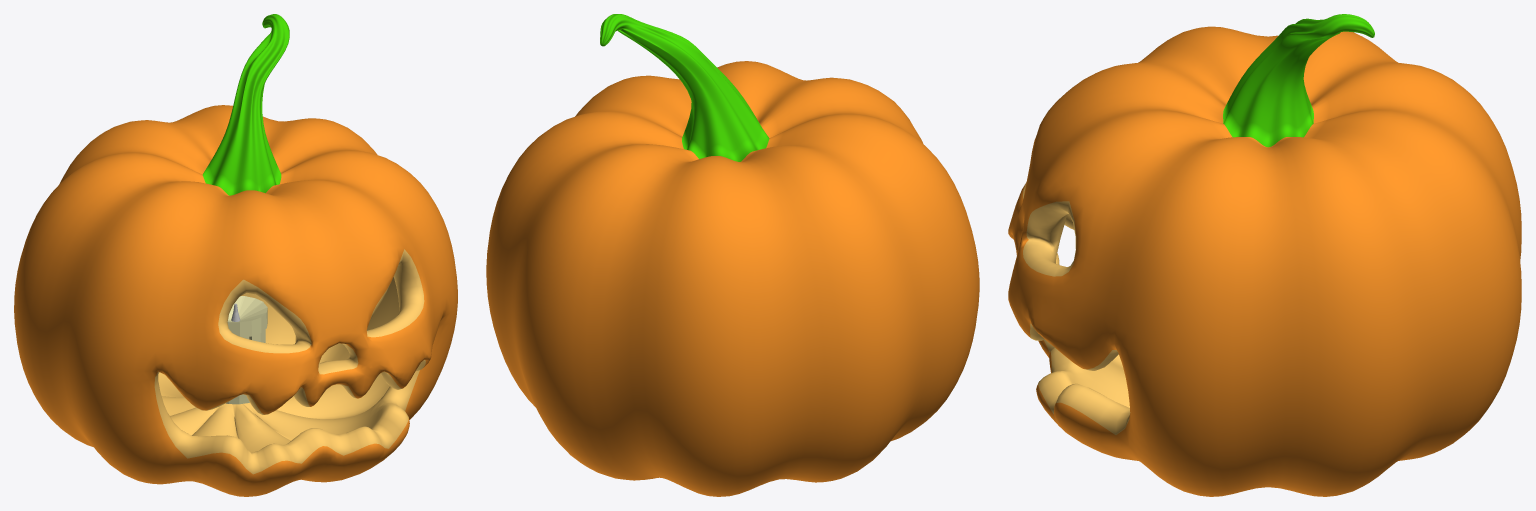
File: Collada(DAE).dae
3 renders of one model, left to right at view 1: azimuth 30°, elevation 25°; view 2: azimuth 150°, elevation 25°; view 3: azimuth 270°, elevation 25°, orthographic. The views are drawn at different scales.
Parts seen in each view (by area): view 1: Pumpkin, Candle; view 2: Pumpkin; view 3: Pumpkin.
Boxes of the visible parts, left/top/right/bottom form: Pumpkin: left=14, top=14, right=457, bottom=496; Candle: left=226, top=296, right=267, bottom=404; Pumpkin: left=486, top=14, right=979, bottom=496; Pumpkin: left=1008, top=14, right=1521, bottom=496.
Bounding box in the file's own units: 0.6294 × 0.6374 × 0.6429.
